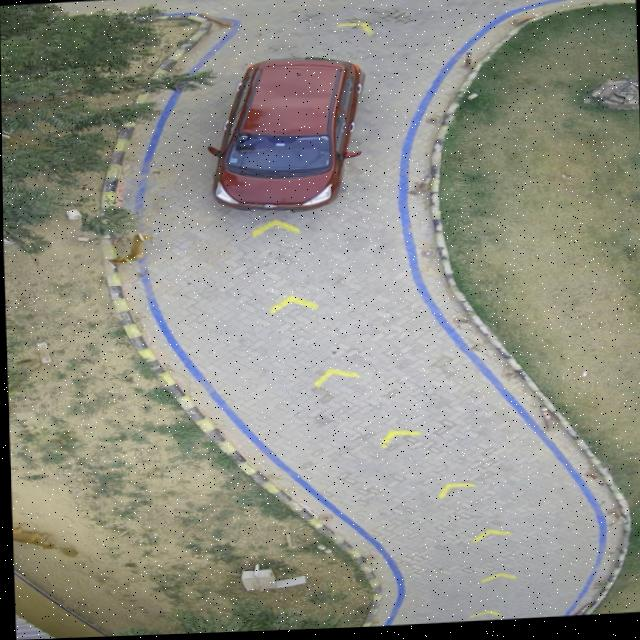car: (206, 59, 362, 214)
